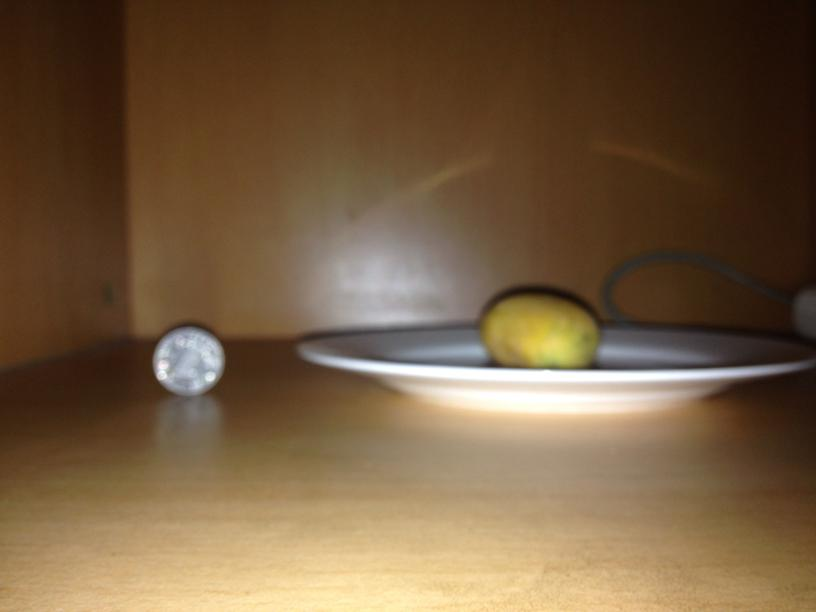coin: (152, 326, 226, 396)
mango: (471, 293, 600, 365)
